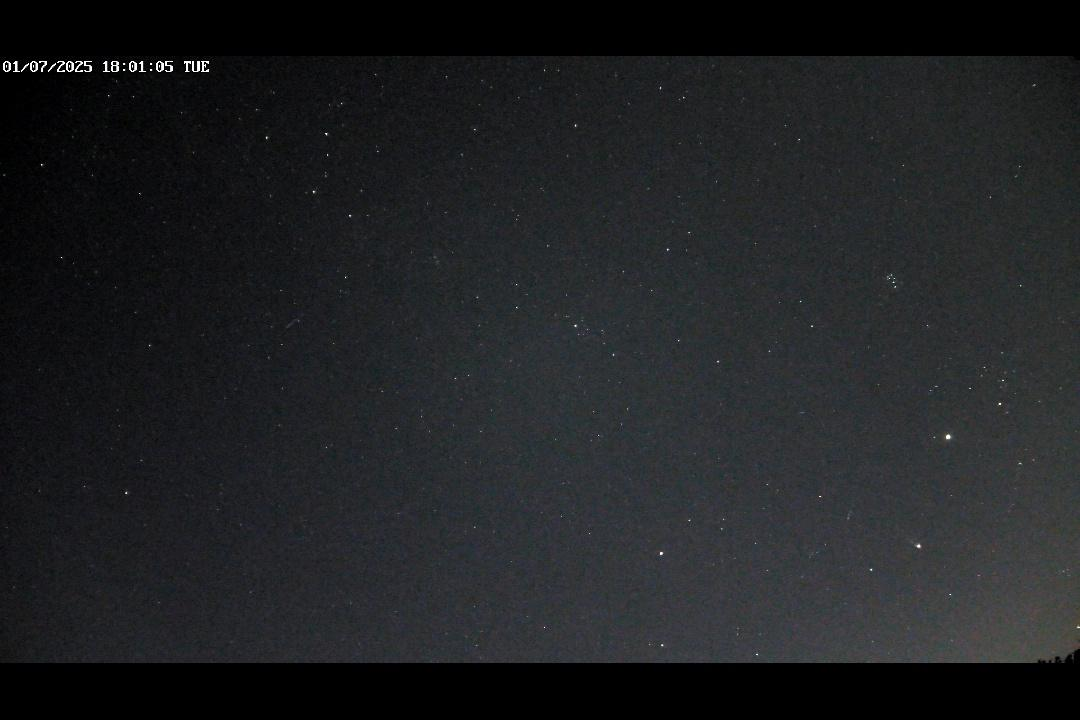Plane: (895, 524, 928, 558), (842, 481, 864, 529), (282, 311, 308, 329)
